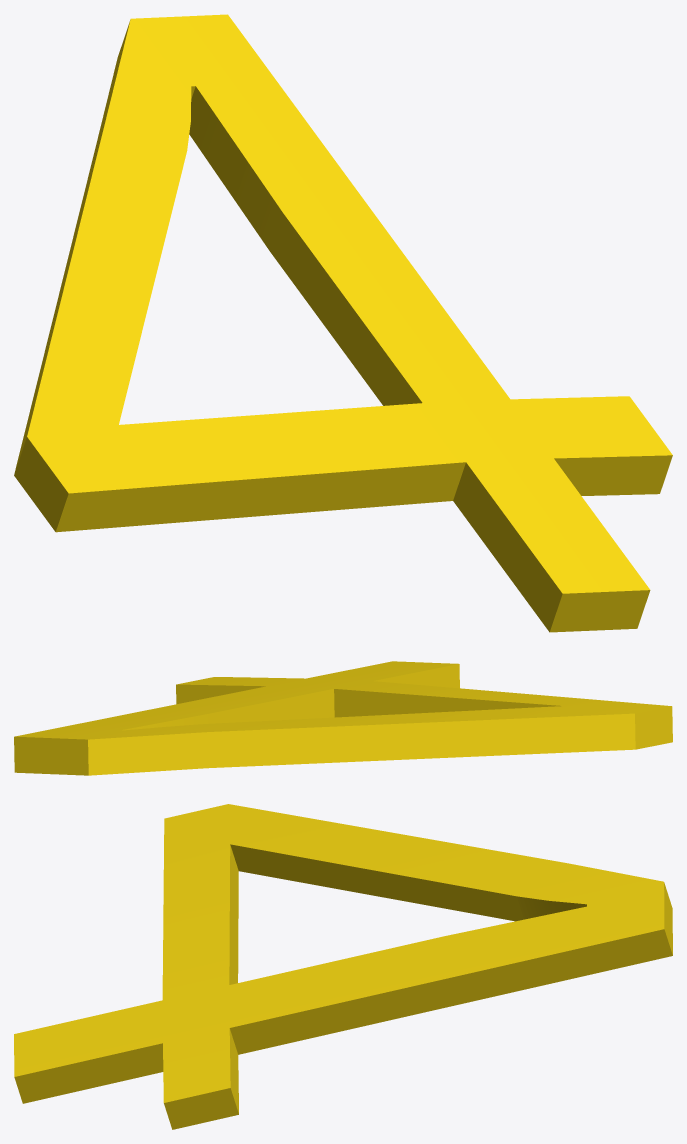
The model's file is Number_4.gltf.
3 renders of one model, top to bottom at view 1: azimuth 30°, elevation 25°; view 2: azimuth 150°, elevation 25°; view 3: azimuth 270°, elevation 25°, orthographic. The views are drawn at different scales.
Visible parts, largest first — view 1: Sub_9_Cell_3_3_Number_4; view 2: Sub_9_Cell_3_3_Number_4; view 3: Sub_9_Cell_3_3_Number_4.
Part boxes in pixels (x1,y1,x2,y2): Sub_9_Cell_3_3_Number_4: (14, 14, 672, 632); Sub_9_Cell_3_3_Number_4: (14, 661, 672, 775); Sub_9_Cell_3_3_Number_4: (14, 804, 672, 1129).
Bounding box in the file's own units: 0.0188 × 0.00846 × 0.0247.
